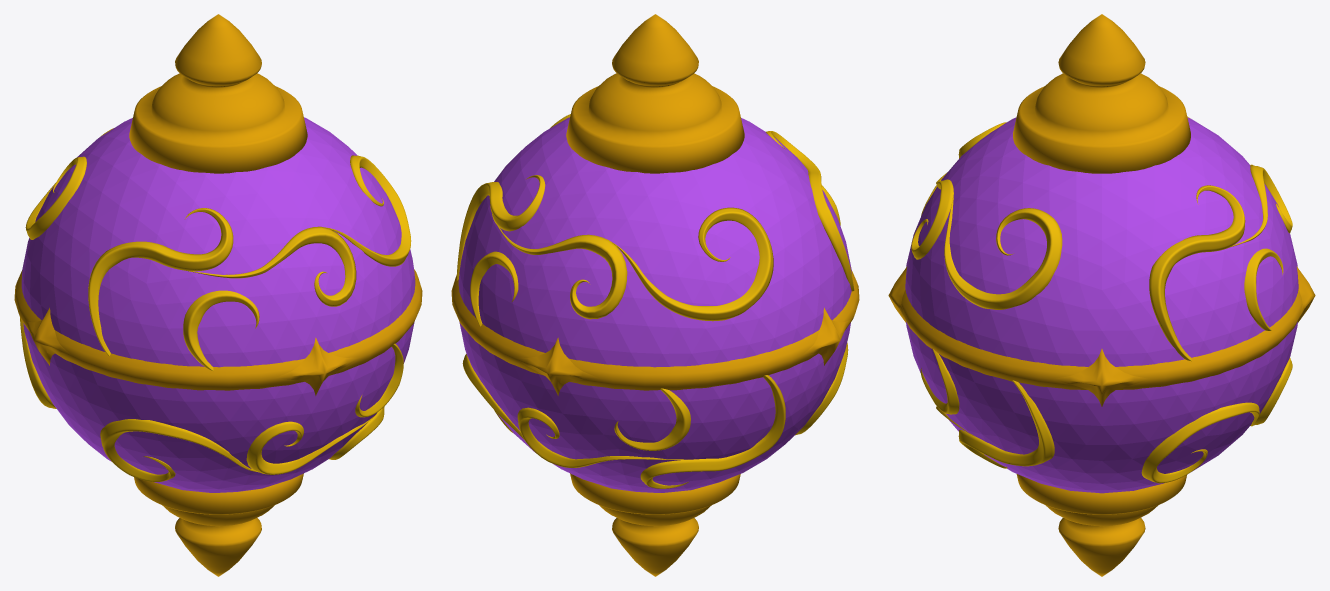
File: legendarysphere.glb
3 views of the same model, side by side, from view 1: azimuth 30°, elevation 25°; view 2: azimuth 150°, elevation 25°; view 3: azimuth 270°, elevation 25° (orthographic).
Parts seen in each view (by area): view 1: Plane; view 2: Plane; view 3: Plane.
Boxes of the visible parts, left/top/right/bottom form: Plane: left=14, top=14, right=422, bottom=576; Plane: left=451, top=14, right=859, bottom=576; Plane: left=888, top=14, right=1315, bottom=576.
Size of the model in its own units: 2.16 by 3.14 by 2.16.
